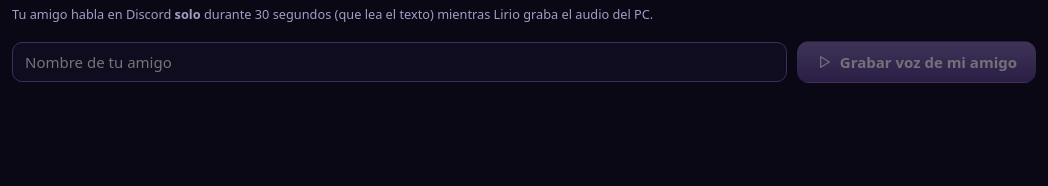
Test: huella de voz › la voz de un amigo pide su nombre
Expected: the button "Grabar voz de mi amigo" is disabled, [797,41,1036,83]
Type "Ana" into the field named "Nombre del amigo" at coordinates (399, 62), box [12,42,787,82]
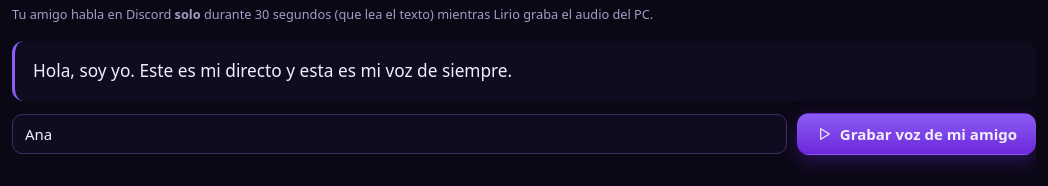
Result: the button "Grabar voz de mi amigo" is enabled at [797,113,1036,155]
